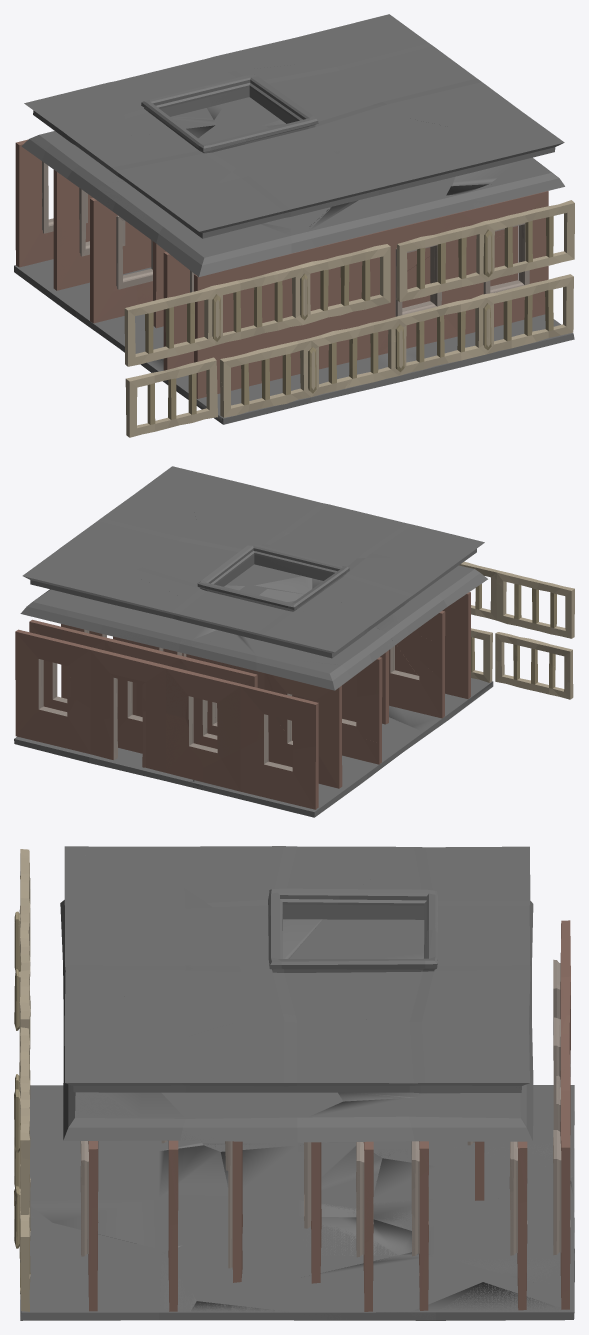
The model's file is Home1.1.fbx.
3 renders of one model, top to bottom at view 1: azimuth 30°, elevation 25°; view 2: azimuth 150°, elevation 25°; view 3: azimuth 270°, elevation 25°, orthographic. The views are drawn at different scales.
Parts seen in each view (by area): view 1: Roof, Foundation, Panel1, Fence, Roof_cell.003, Fence3, Floor, Roof_cell.005, Fence2, Panel9, Roof_cell.007, Roof_cell.004 (+36 smaller); view 2: Roof, Panel4, Foundation, Roof_cell.003, Roof_cell.005, Floor, Panel5, Panel9, Panel4_cell.001, Roof_cell.007, Panel4_cell.007, Roof_cell.008 (+43 smaller); view 3: Roof, Floor, Foundation, Roof_cell.003, Roof_cell.005, Floor_cell.009, Roof_cell.004, Floor_cell.014, Roof_cell.007, Floor_cell.008, Floor_cell.001, Panel4 (+40 smaller).
Part boxes in pixels (left/top/right/bottom): Roof: left=33, top=14, right=564, bottom=238; Foundation: left=29, top=97, right=564, bottom=276; Panel1: left=194, top=191, right=548, bottom=375; Fence: left=223, top=274, right=573, bottom=417; Roof_cell.003: left=179, top=150, right=447, bottom=230; Fence3: left=124, top=244, right=390, bottom=366; Floor: left=14, top=259, right=574, bottom=424; Roof_cell.005: left=199, top=61, right=376, bottom=144; Fence2: left=397, top=200, right=574, bottom=301; Panel9: left=53, top=170, right=151, bottom=290; Roof_cell.007: left=24, top=81, right=129, bottom=160; Roof_cell.004: left=340, top=43, right=563, bottom=153; Roof: left=22, top=466, right=476, bottom=658; Panel4: left=15, top=629, right=318, bottom=809; Foundation: left=20, top=564, right=487, bottom=690; Roof_cell.003: left=267, top=490, right=469, bottom=561; Roof_cell.005: left=131, top=536, right=311, bottom=609; Floor: left=15, top=678, right=493, bottom=817; Panel5: left=29, top=619, right=257, bottom=748; Panel9: left=189, top=655, right=342, bottom=788; Panel4_cell.001: left=185, top=675, right=271, bottom=767; Roof_cell.007: left=259, top=605, right=396, bottom=656; Panel4_cell.007: left=15, top=631, right=70, bottom=723; Roof_cell.008: left=307, top=557, right=448, bottom=617; Roof: left=64, top=846, right=530, bottom=1093; Floor: left=20, top=1085, right=574, bottom=1320; Foundation: left=60, top=900, right=533, bottom=1142; Roof_cell.003: left=64, top=846, right=245, bottom=1007; Roof_cell.005: left=239, top=915, right=491, bottom=1022; Floor_cell.009: left=20, top=1217, right=196, bottom=1320; Roof_cell.004: left=65, top=1014, right=517, bottom=1092; Floor_cell.014: left=190, top=1252, right=435, bottom=1320; Roof_cell.007: left=339, top=846, right=530, bottom=905; Floor_cell.008: left=30, top=1145, right=228, bottom=1249; Floor_cell.001: left=220, top=1142, right=382, bottom=1217; Panel4: left=553, top=920, right=570, bottom=1309.
Size of the model in its own units: 1559 by 628 by 1253.
